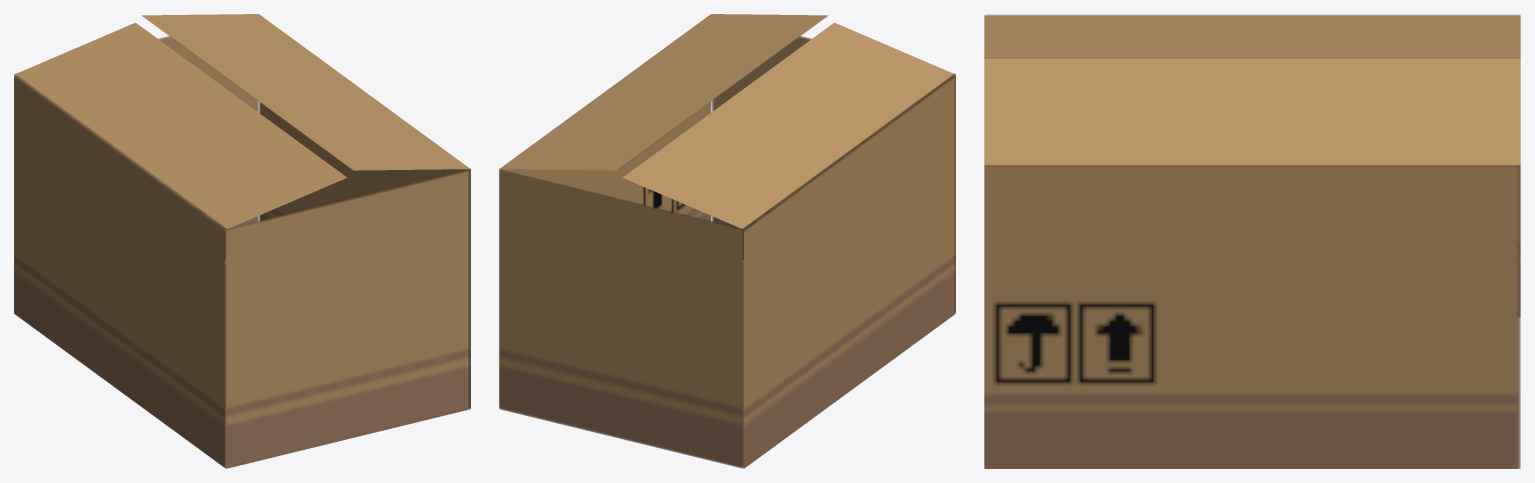
File: cuboid3Opened.glb
3 renders of one model, left to right at view 1: azimuth 30°, elevation 25°; view 2: azimuth 150°, elevation 25°; view 3: azimuth 270°, elevation 25°, orthographic. The views are drawn at different scales.
Visible parts, largest first — view 1: plane_1; view 2: plane_1; view 3: plane_1.
Boxes of the visible parts, x1=… form: plane_1: x1=14, y1=14, x2=470, y2=468; plane_1: x1=499, y1=14, x2=955, y2=468; plane_1: x1=984, y1=15, x2=1520, y2=468.
Size of the model in its own units: 1 by 1.05 by 1.5.
Materials: 1 (1 with a texture image).
